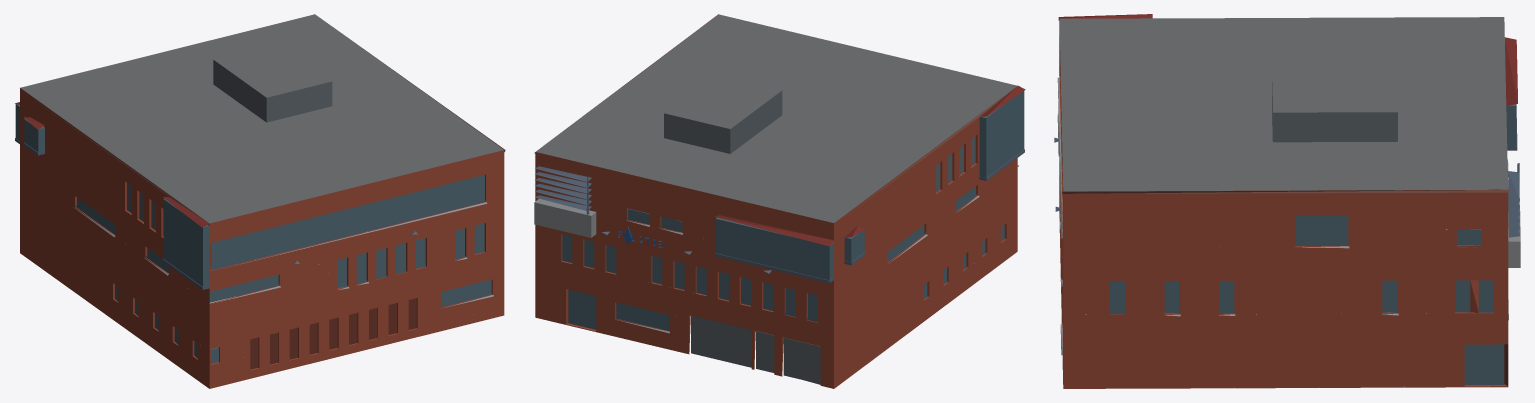
The model's file is politiebureau-postjesweg.lod1.glb.
The picture shows the model from 3 angles, left to right: view 1: azimuth 30°, elevation 25°; view 2: azimuth 150°, elevation 25°; view 3: azimuth 270°, elevation 25°; orthographic projection. The views are drawn at different scales.
Visible parts, largest first — view 1: politiebureau-postjesweg; view 2: politiebureau-postjesweg; view 3: politiebureau-postjesweg.
Boxes of the visible parts, x1,y1,x2,y2 form: politiebureau-postjesweg: (15, 14, 505, 388); politiebureau-postjesweg: (534, 14, 1025, 388); politiebureau-postjesweg: (1054, 14, 1520, 388).
Bounding box in the file's own units: 23.35 × 13.8 × 25.7.
